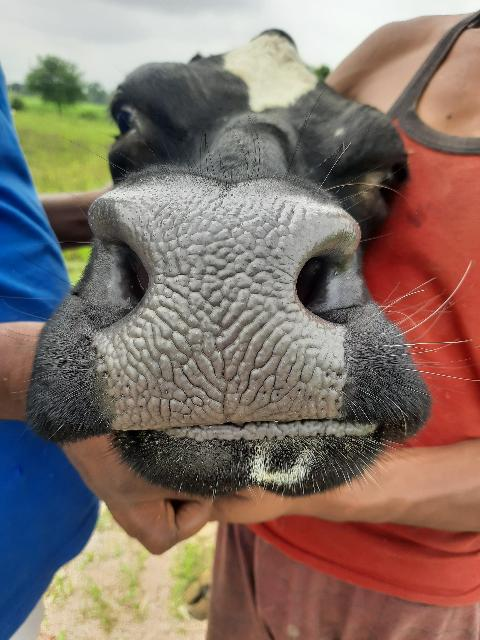Muzzle: (128, 194, 312, 420)
